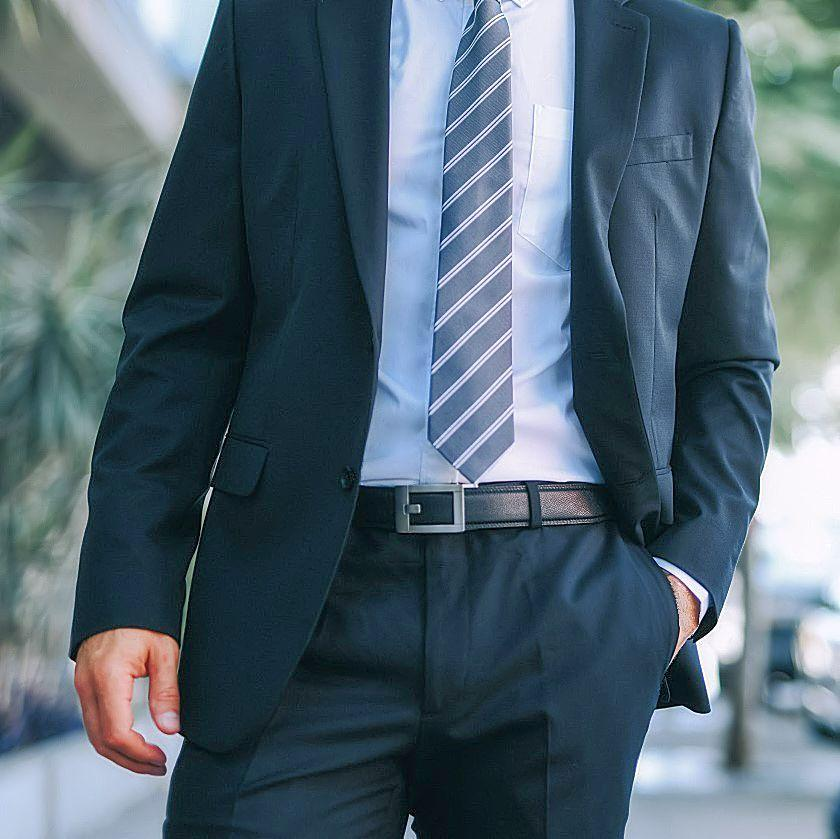F_M_suit jacket: (62, 1, 776, 644)
F_belt: (309, 471, 633, 549)
F_dress pants: (231, 522, 683, 839)
F_tie: (429, 5, 523, 466)
